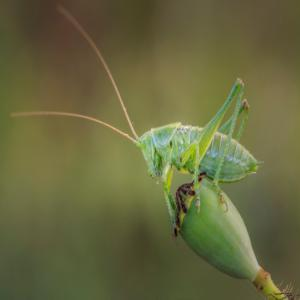locust: (109, 66, 271, 214)
